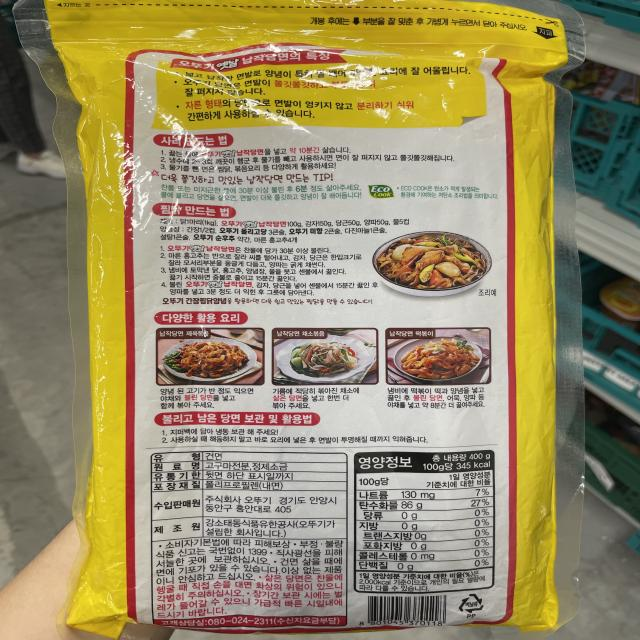object_name: (45, 2, 548, 629)
